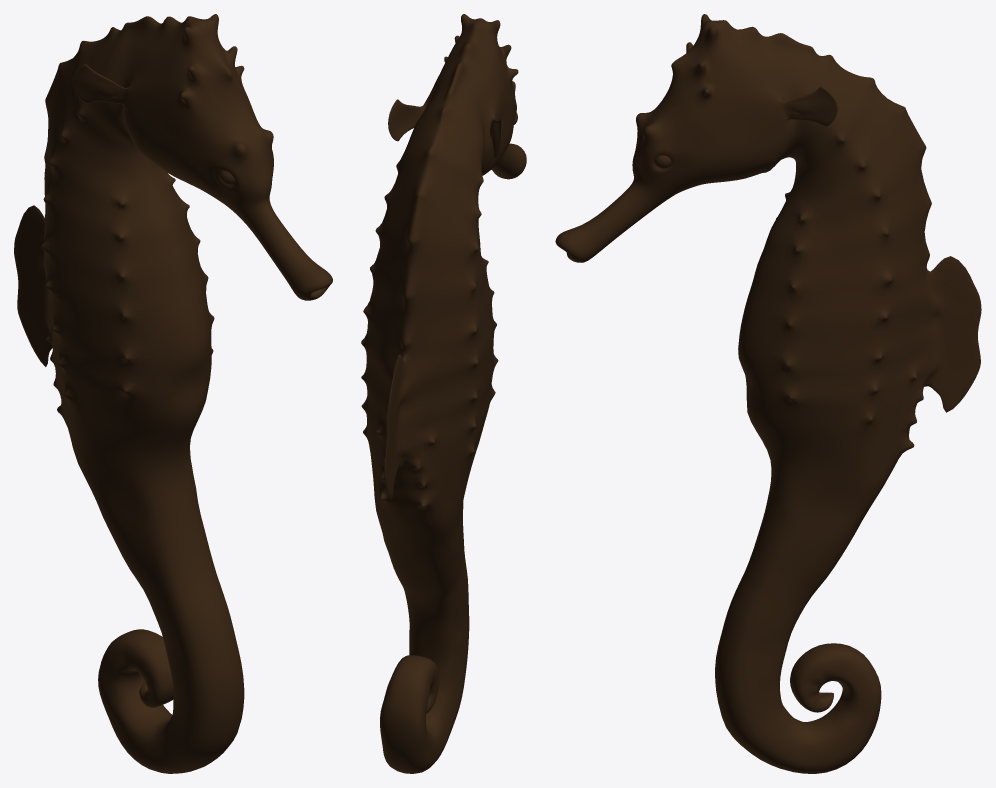
File: caballito.obj
3 renders of one model, left to right at view 1: azimuth 30°, elevation 25°; view 2: azimuth 150°, elevation 25°; view 3: azimuth 270°, elevation 25°, orthographic. The views are drawn at different scales.
Parts seen in each view (by area): view 1: sea_horse; view 2: sea_horse; view 3: sea_horse.
Part boxes in pixels (bbox=[...]): sea_horse: bbox=[14, 14, 332, 773]; sea_horse: bbox=[361, 14, 526, 773]; sea_horse: bbox=[555, 14, 981, 773].
Size of the model in its own units: 0.7429 by 4.17 by 2.17.
